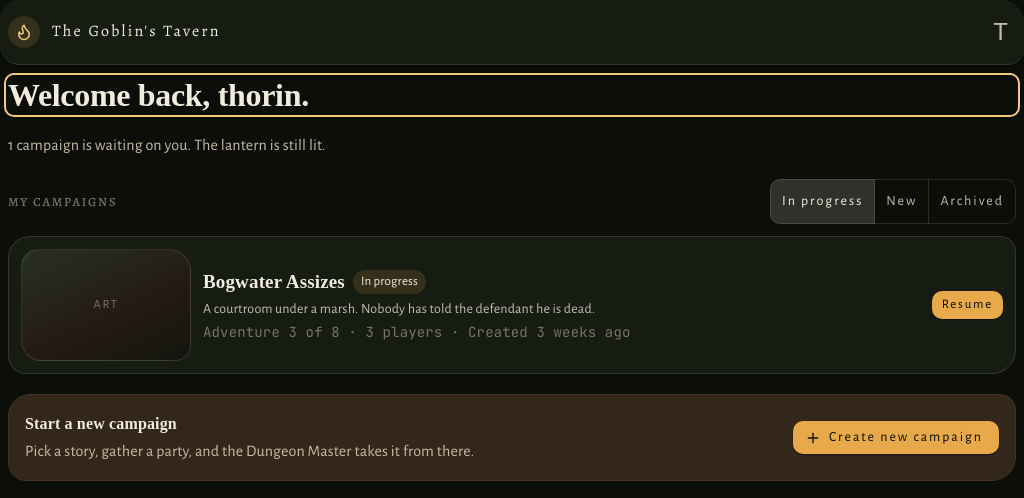
Test: DashboardRoute on / (AC1-AC5) › an empty tag shows its own 'nothing here' line instead of an empty list
Expected: the text "Bogwater Assizes" is shown, [203, 267, 345, 297]
Step 1. Click the button "Archived" → {"x": 972, "y": 202}, box [928, 179, 1016, 224]
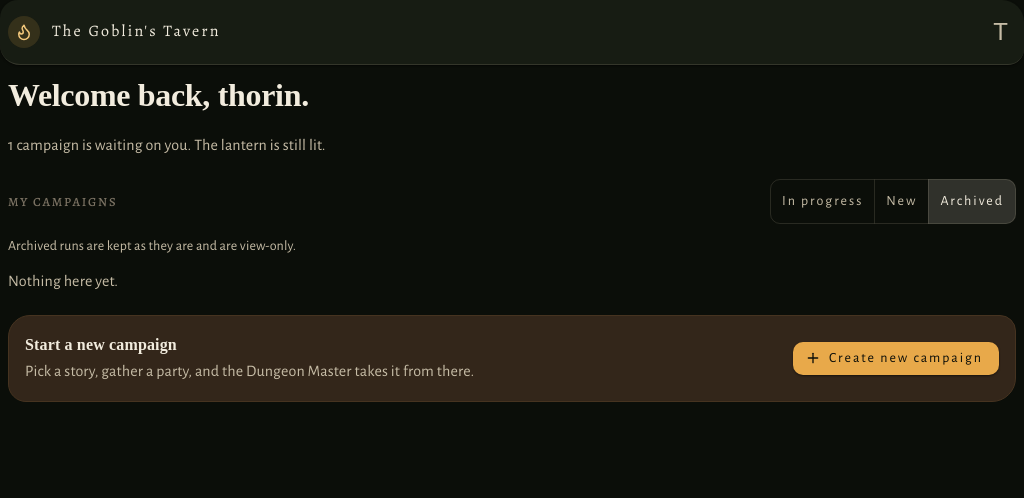
Expected: the text "Nothing here yet." is shown, [8, 273, 118, 289]
Expected: the text "Bogwater Assizes" is gone
